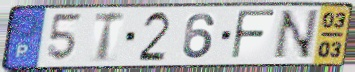2: (138, 10, 174, 63)
5: (44, 12, 85, 64)
6: (182, 12, 216, 61)
F: (229, 9, 279, 62)
N: (269, 8, 322, 62)
T: (92, 10, 127, 64)
